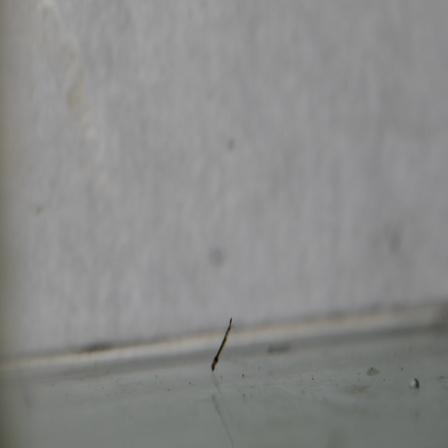Jentik-Nyamuk: (208, 315, 237, 374)
